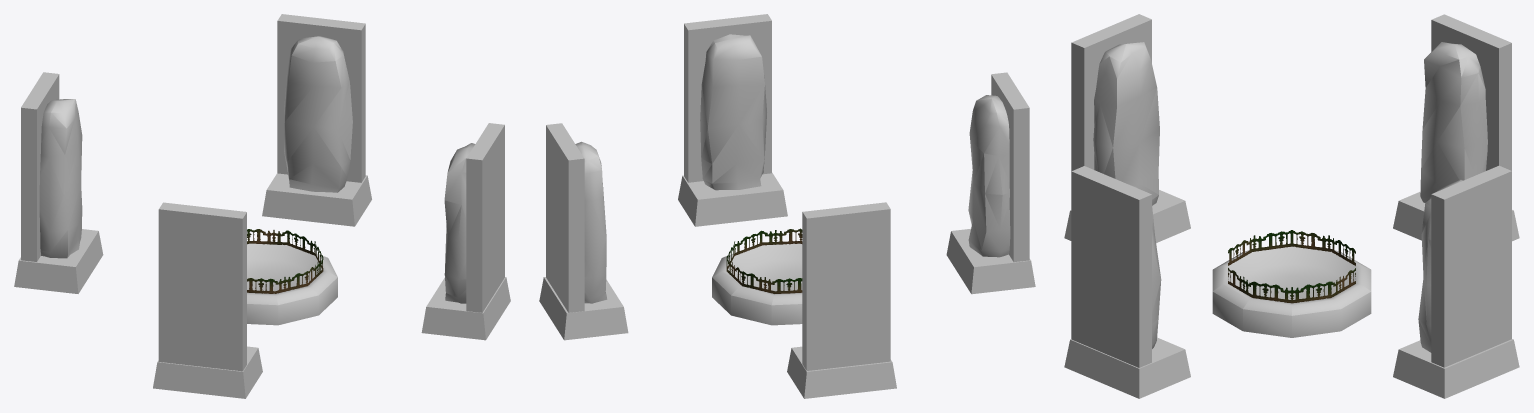
File: MagicCircle.fbx
3 renders of one model, left to right at view 1: azimuth 30°, elevation 25°; view 2: azimuth 150°, elevation 25°; view 3: azimuth 270°, elevation 25°, orthographic. The views are drawn at different scales.
Visible parts, largest first — view 1: Mesh Object; view 2: Mesh Object; view 3: Mesh Object.
Part boxes in pixels (left/top/right/bottom): Mesh Object: left=14, top=14, right=510, bottom=398; Mesh Object: left=539, top=14, right=1035, bottom=398; Mesh Object: left=1064, top=14, right=1519, bottom=398.
Size of the model in its own units: 11.17 by 5.3 by 11.17.
